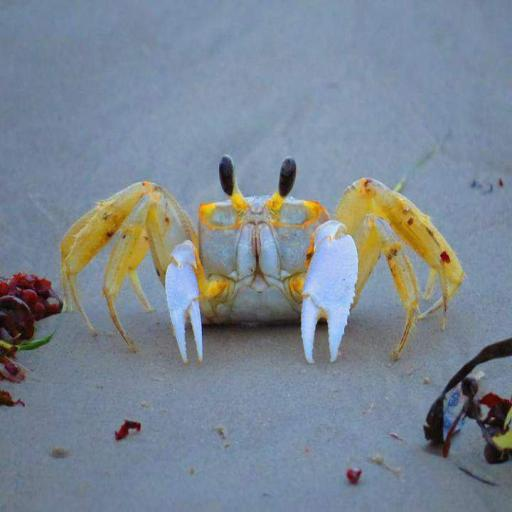crab: (46, 144, 479, 391)
